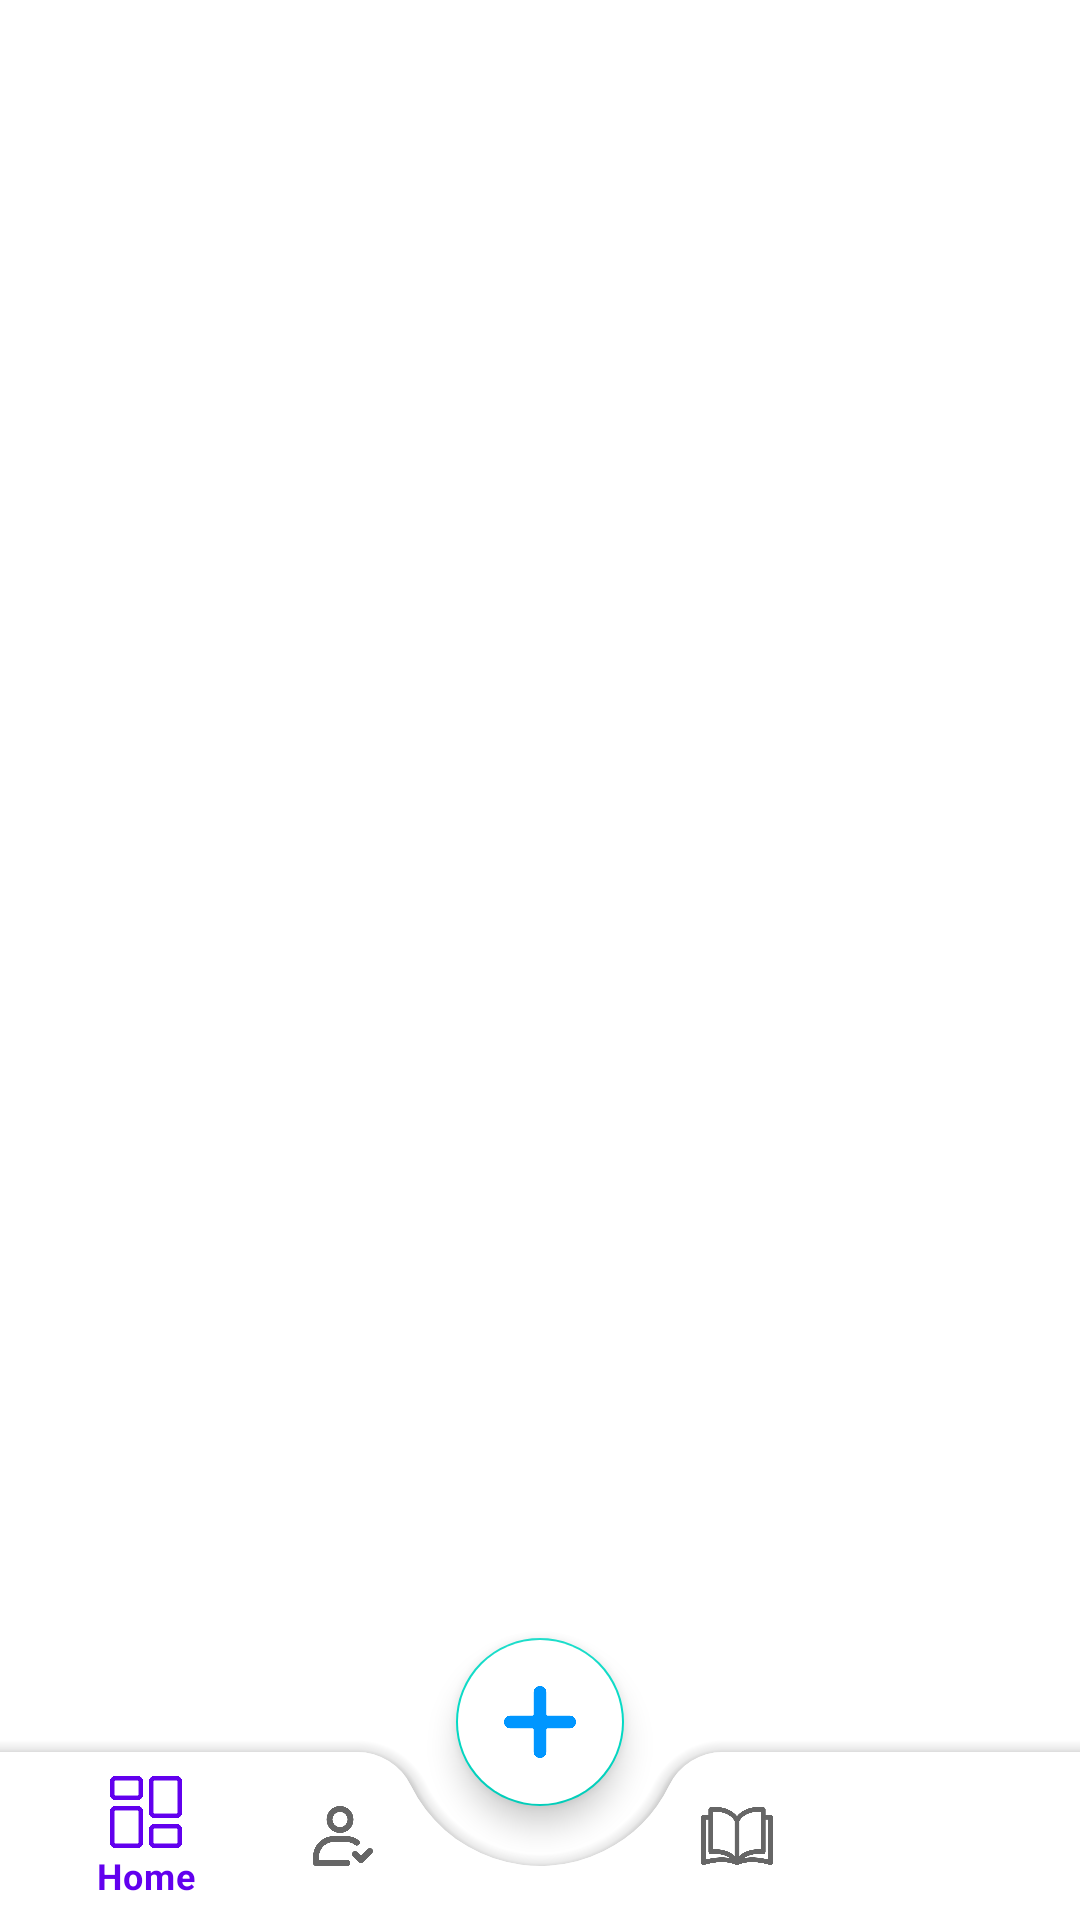

Locate icon controls on the screen. Image size 1080w x 1920h, boxes as (x1, y1, x2, y2).
Add: (456, 1668, 624, 1821)
